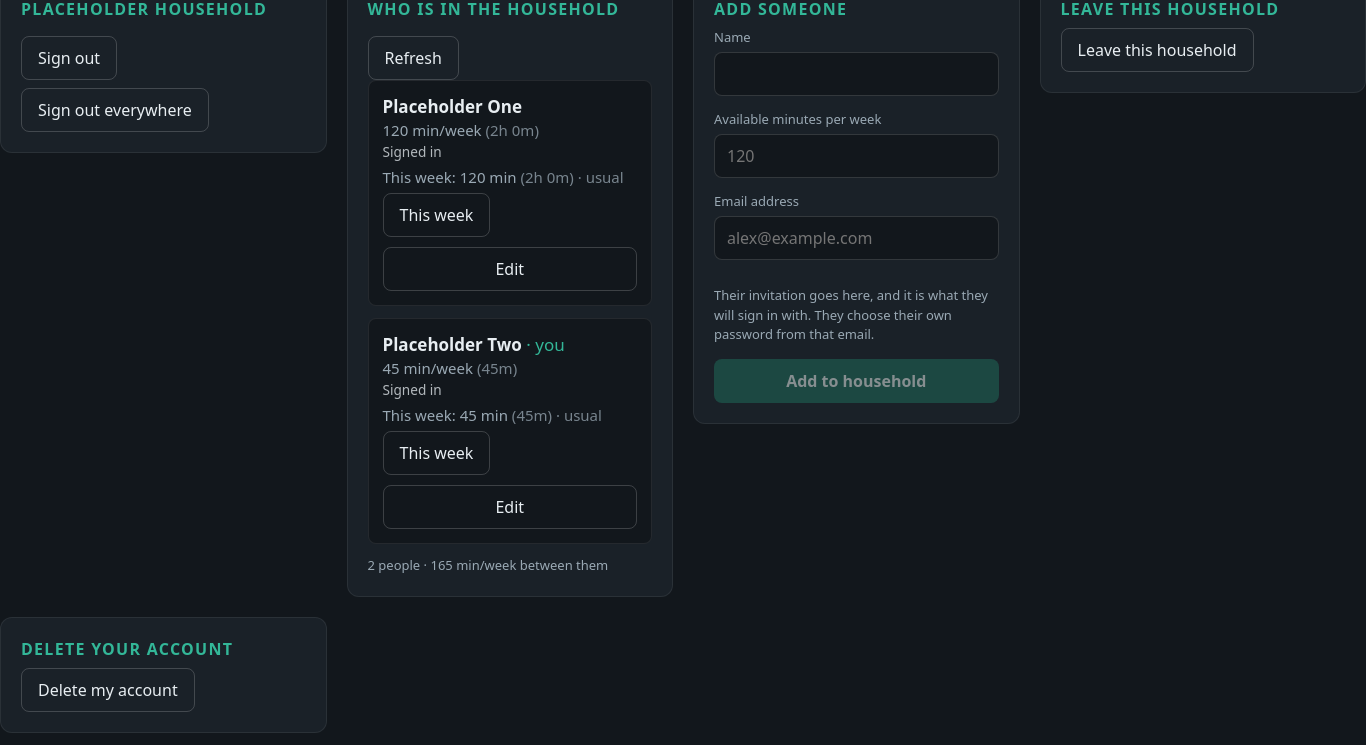
Test: deleting your account from the Who tab (#432) › routes into the Leave confirm rather than deleting anything
The image size is (1366, 745).
Click the button "Delete my account".
click(108, 690)  # box [21,668,195,712]
(page scrolled)
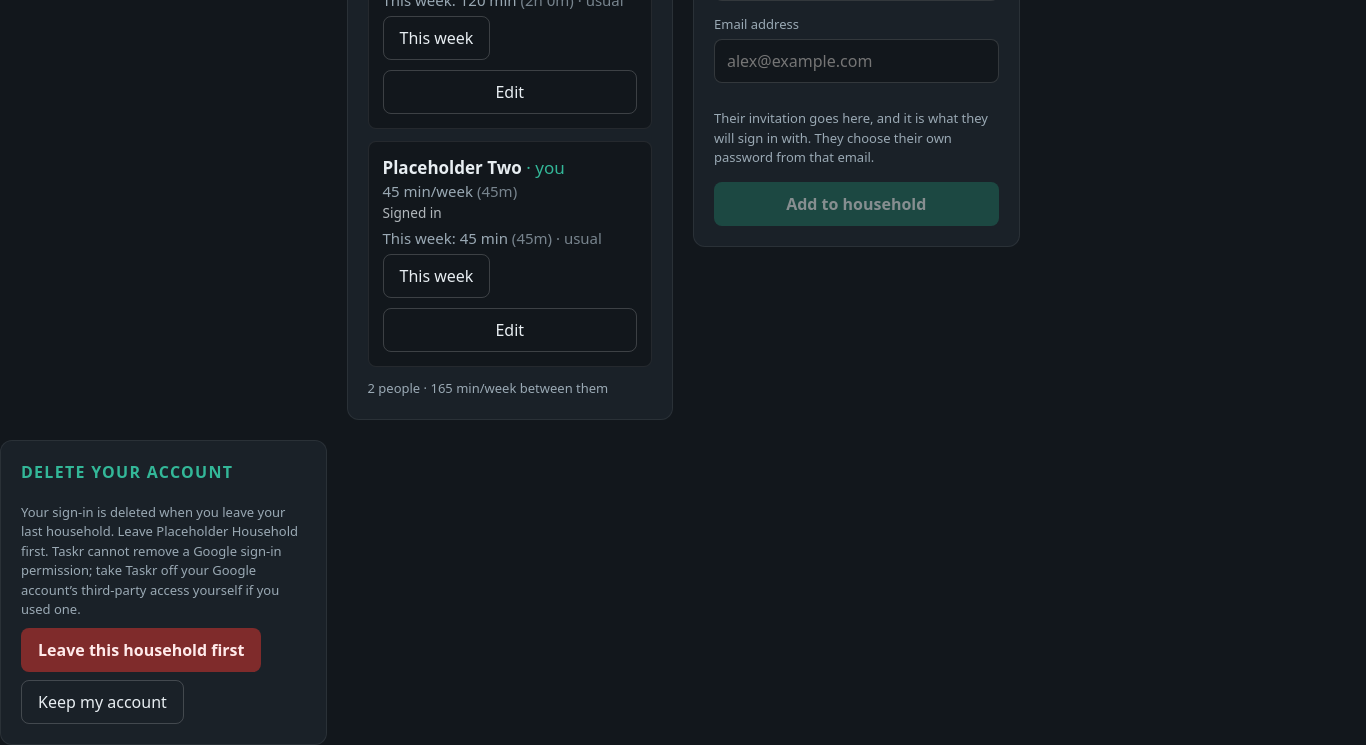
Click the button "Leave this household first".
click(141, 650)  # box [21,628,262,672]
(page scrolled)
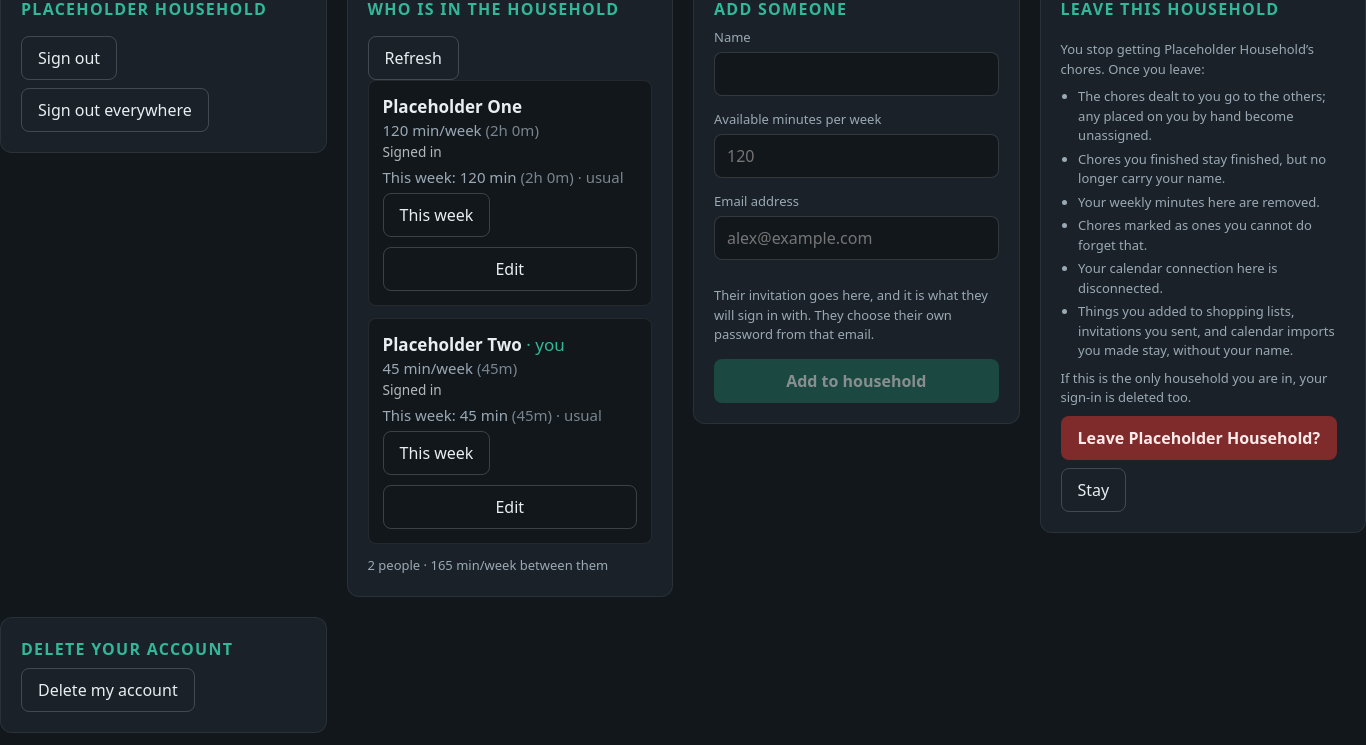
Expected: the text with test id "delete-account-note" is gone
Expected: the element with test id "leave-household-warning" is shown, [1060,40,1345,408]
Expected: the button "Leave Placeholder Household?" is shown, [1060,416,1337,460]
